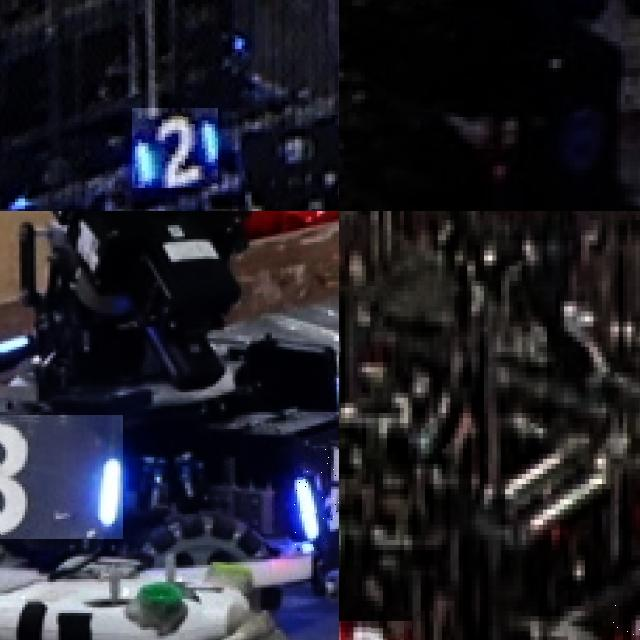B2: (132, 108, 218, 188)
B3: (0, 414, 123, 539)
B4: (291, 446, 339, 548)
